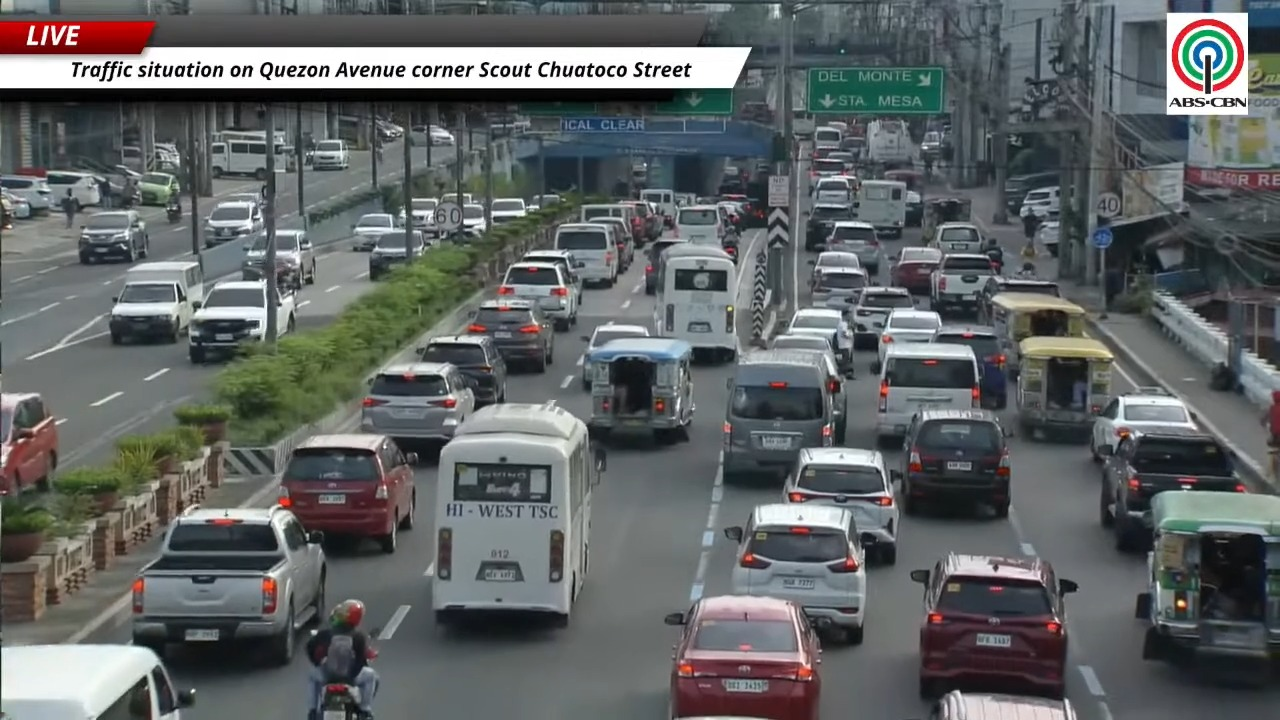bus: (432, 401, 605, 626), (654, 243, 737, 361), (209, 140, 266, 179), (210, 129, 266, 142)
car: (910, 553, 1077, 698), (724, 503, 876, 644), (664, 595, 820, 719), (278, 433, 416, 553), (784, 447, 898, 564), (892, 409, 1010, 517), (360, 361, 475, 444), (770, 334, 853, 444), (1090, 386, 1197, 461), (466, 298, 553, 372), (931, 325, 1007, 409), (418, 335, 505, 407), (0, 392, 58, 494), (497, 261, 578, 330), (579, 322, 650, 390), (872, 308, 942, 371), (930, 690, 1078, 719), (785, 308, 851, 369), (850, 286, 913, 349), (978, 275, 1060, 323), (78, 211, 148, 263), (520, 250, 584, 305), (825, 221, 885, 276), (368, 229, 427, 281), (203, 202, 264, 247), (810, 268, 870, 311), (275, 228, 316, 289), (645, 237, 688, 295), (592, 216, 635, 273), (45, 170, 104, 211), (890, 247, 941, 294), (805, 203, 852, 251), (0, 175, 56, 213), (809, 251, 861, 287), (770, 333, 834, 362), (352, 213, 399, 250), (933, 222, 985, 253), (137, 172, 180, 206), (811, 250, 861, 273), (311, 139, 349, 169), (410, 198, 437, 237), (489, 198, 527, 225), (1035, 220, 1061, 258), (0, 190, 32, 219), (460, 203, 487, 236), (904, 191, 923, 226), (219, 192, 263, 204)
motorcycle: (313, 682, 363, 719), (166, 202, 182, 223)
truck: (131, 504, 326, 665), (1099, 426, 1246, 551), (189, 280, 296, 363), (108, 261, 203, 344), (931, 253, 996, 314)
